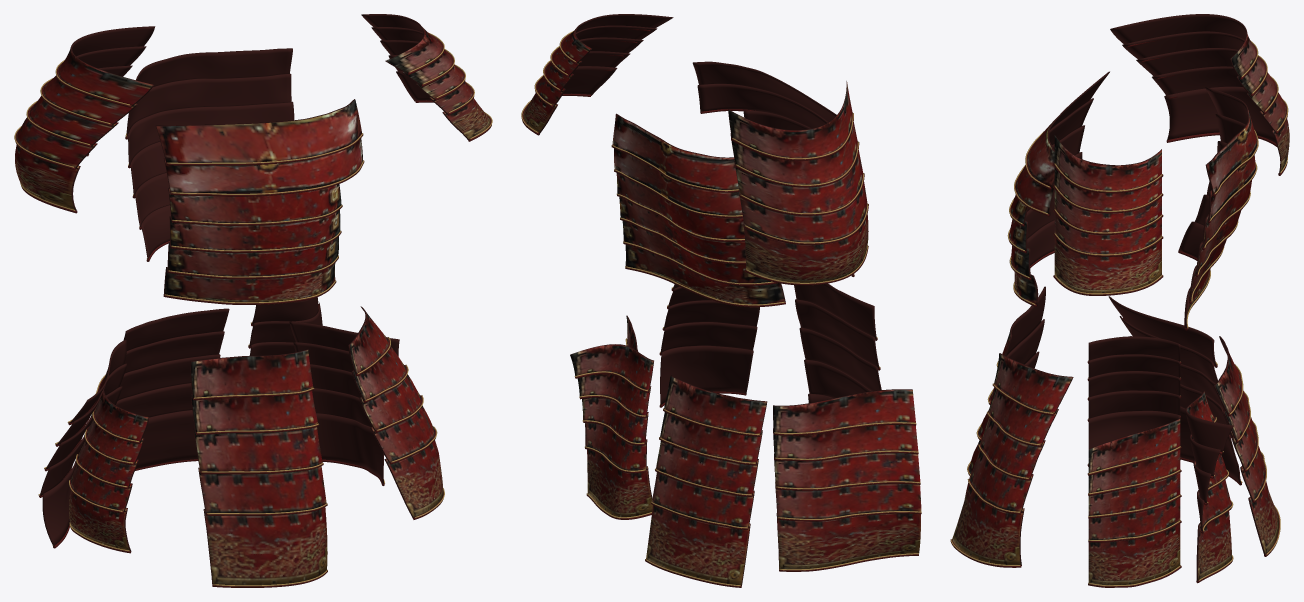
File: body-v2-pass9-plates.glb
3 renders of one model, left to right at view 1: azimuth 30°, elevation 25°; view 2: azimuth 150°, elevation 25°; view 3: azimuth 270°, elevation 25°, orthographic. The views are drawn at different scales.
Parts seen in each view (by area): view 1: Sanada / plates; view 2: Sanada / plates; view 3: Sanada / plates.
Part boxes in pixels (left/top/right/bottom): Sanada / plates: left=14, top=14, right=492, bottom=587; Sanada / plates: left=521, top=14, right=921, bottom=587; Sanada / plates: left=950, top=14, right=1289, bottom=587.
Bounding box in the file's own units: 0.8011 × 0.8386 × 0.5535.
4 materials, 1 textured.
